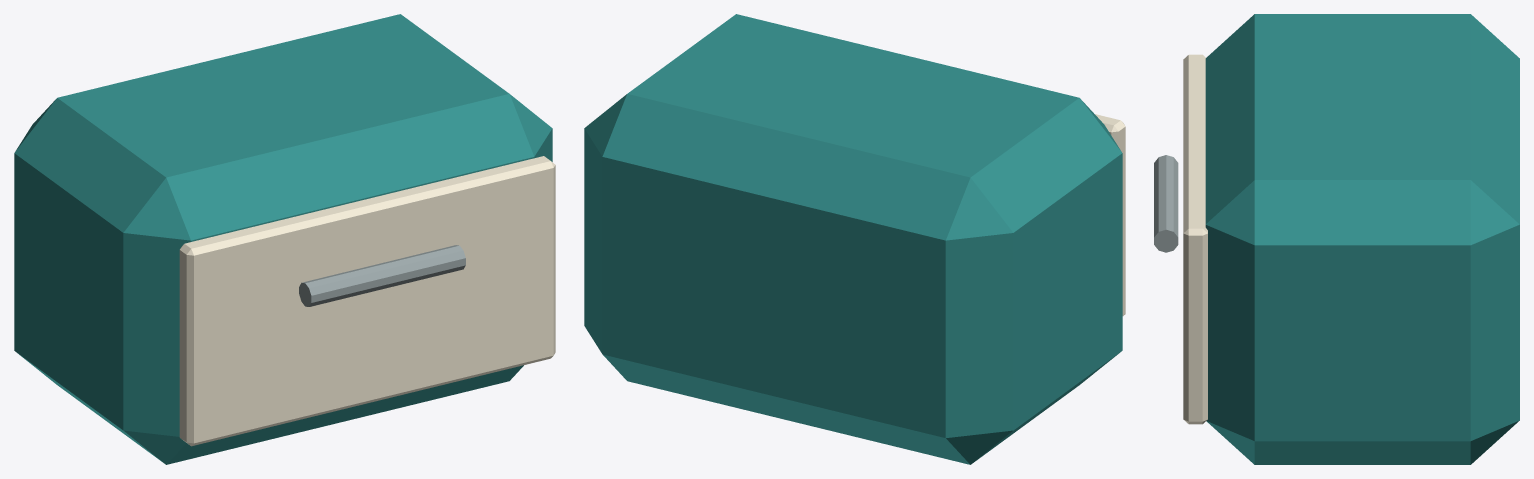
The model's file is Bread_Box_A.glb.
The picture shows the model from 3 angles, left to right: view 1: azimuth 30°, elevation 25°; view 2: azimuth 150°, elevation 25°; view 3: azimuth 270°, elevation 25°; orthographic projection.
Parts seen in each view (by area): view 1: Bread_Box_A; view 2: Bread_Box_A; view 3: Bread_Box_A.
Boxes of the visible parts, x1=… form: Bread_Box_A: x1=14, y1=14, x2=555, y2=464; Bread_Box_A: x1=584, y1=14, x2=1125, y2=464; Bread_Box_A: x1=1154, y1=14, x2=1519, y2=464.
Size of the model in its own units: 0.5 by 0.32 by 0.3724.
